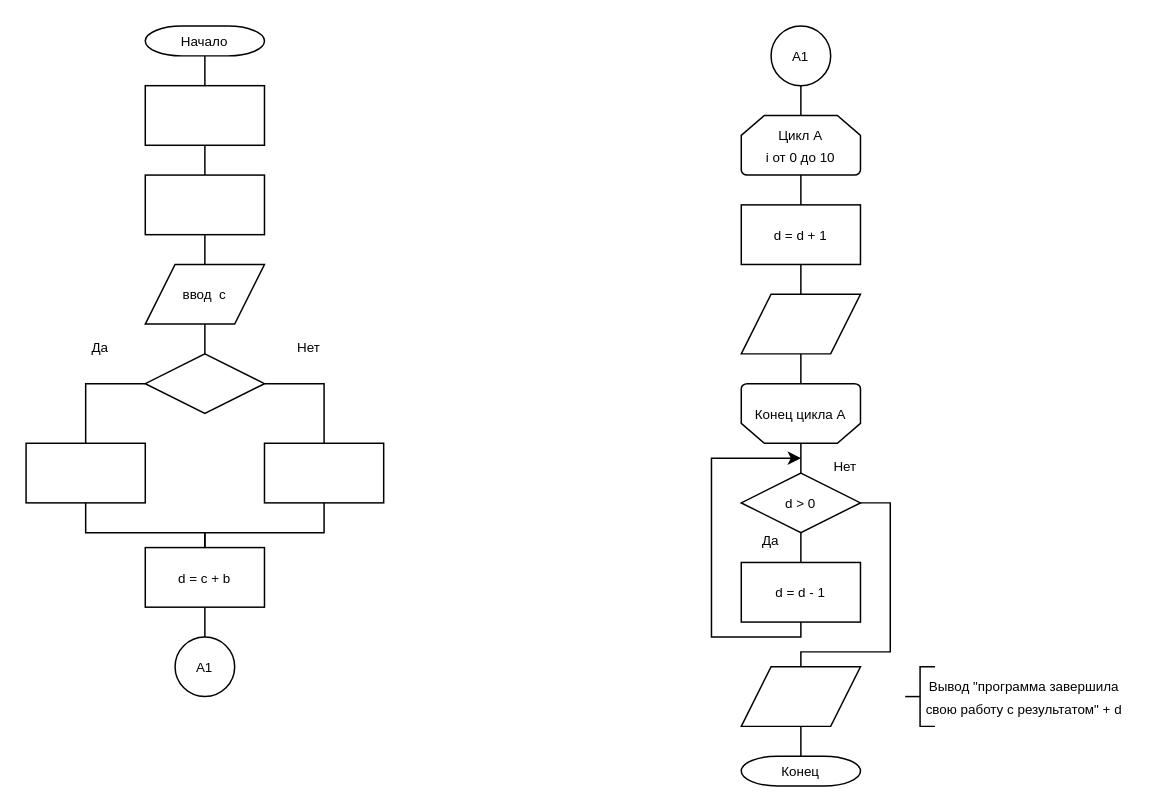
This 1155x812 diagram has some shape labels left out. The shapes that lost their labels are listed below. From the top down, each one's box as (x1, y1, x2, y2) in pixels, then its label:
(144, 84, 264, 145): a = 5
(144, 174, 264, 235): b = 3
(740, 293, 860, 354): вывод d
(144, 352, 264, 413): c > b
(25, 442, 145, 503): c = 1
(263, 442, 384, 503): c = 2
